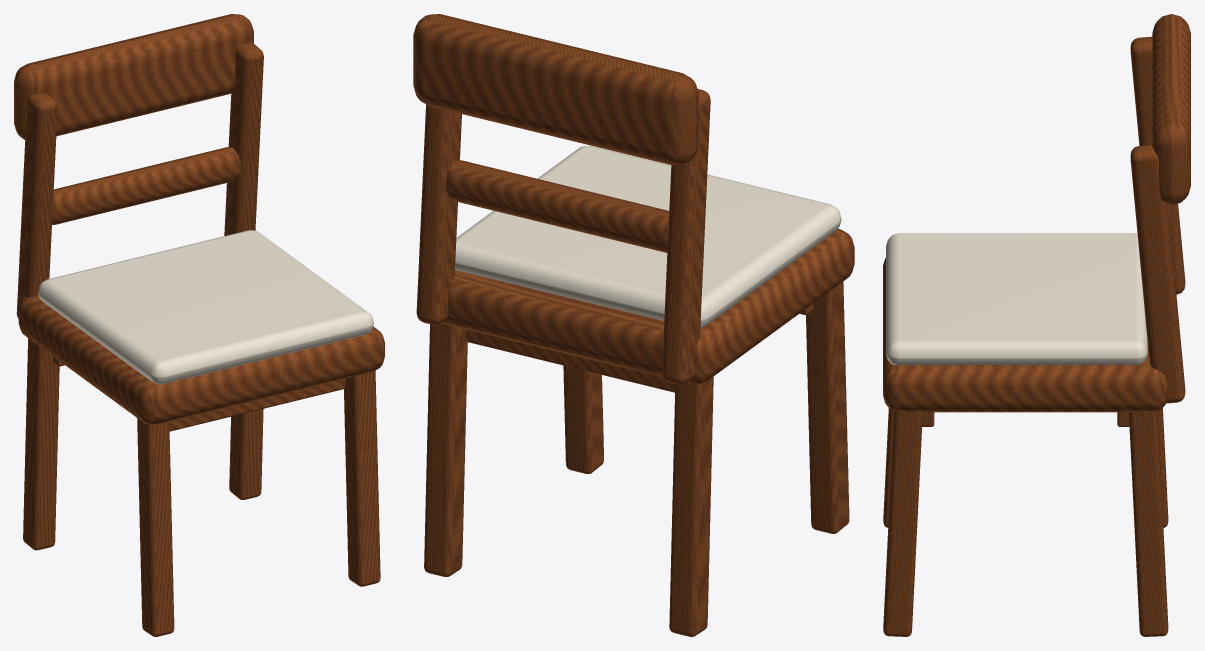
Rendered from hi3d-chair_1.glb.
The picture shows the model from 3 angles, left to right: view 1: azimuth 30°, elevation 25°; view 2: azimuth 150°, elevation 25°; view 3: azimuth 270°, elevation 25°; orthographic projection. The views are drawn at different scales.
Parts seen in each view (by area): view 1: chair_mesh; view 2: chair_mesh; view 3: chair_mesh.
Part boxes in pixels (x1,y1,x2,y2): chair_mesh: [14, 14, 384, 636]; chair_mesh: [413, 14, 854, 636]; chair_mesh: [883, 14, 1190, 636].
Bounding box in the file's own units: 0.51 × 0.9449 × 0.5175.
2 materials, 1 textured.
